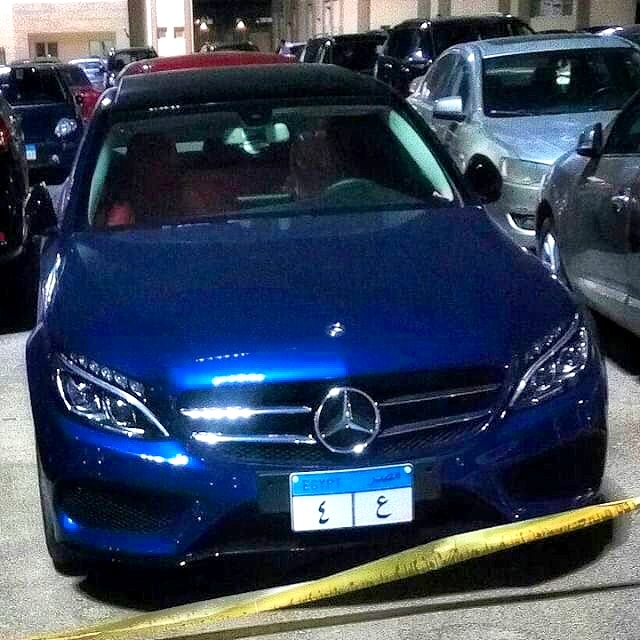License Plate: (288, 459, 416, 535)
